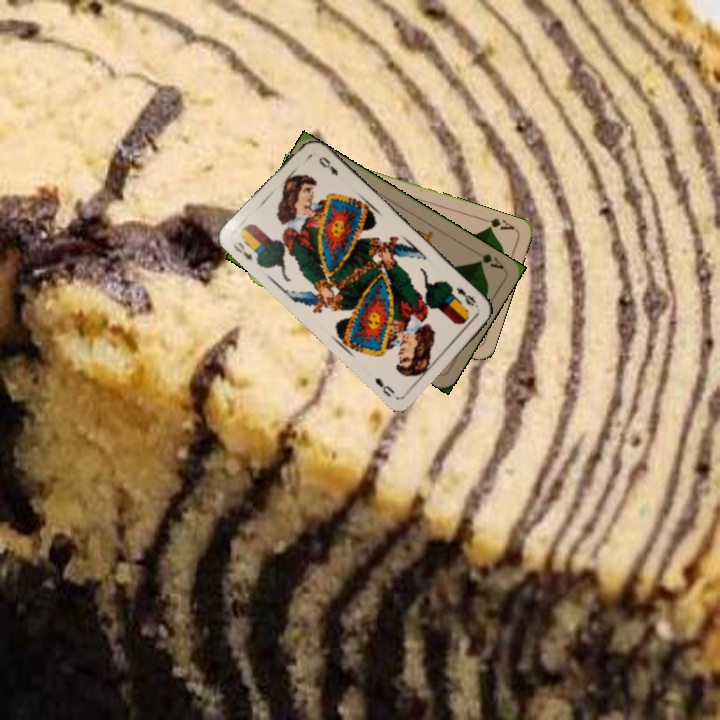EO: (452, 283, 481, 311), (229, 238, 255, 265)
GA: (472, 249, 507, 272), (478, 214, 517, 233)
